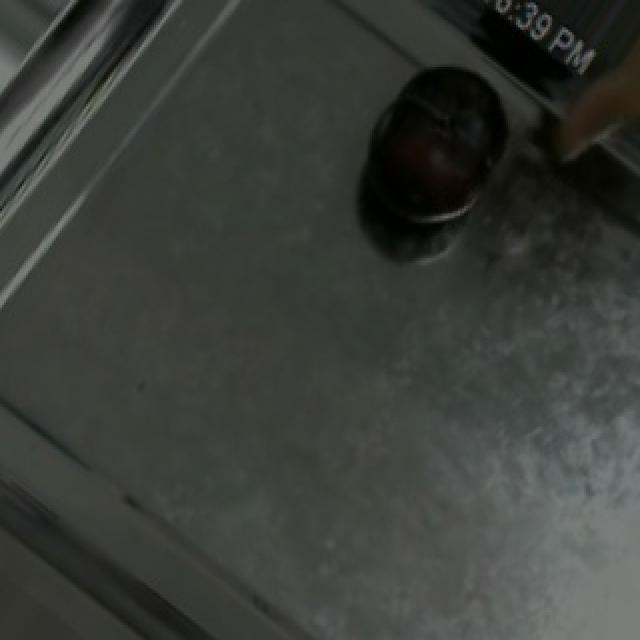Fruit: (348, 42, 532, 251)
